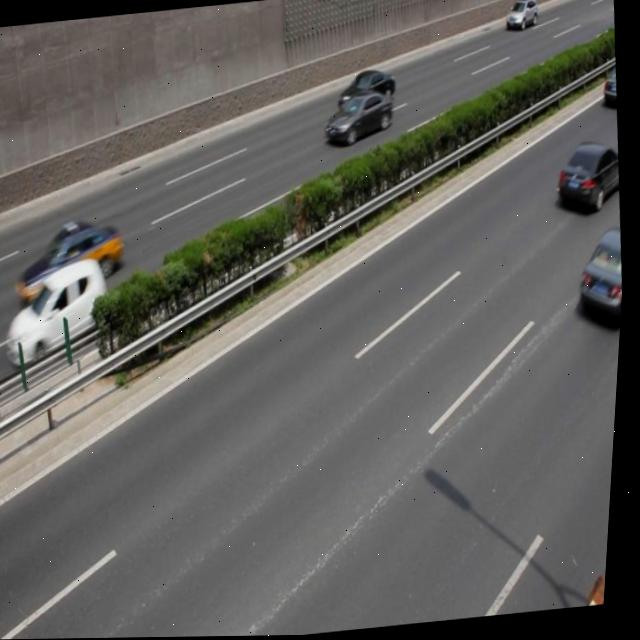car: (0, 259, 120, 372), (11, 215, 130, 309), (572, 228, 629, 331), (553, 142, 621, 215), (321, 89, 396, 150), (335, 68, 398, 114), (502, 0, 538, 33), (601, 69, 619, 107)
